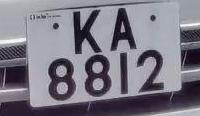1: (113, 47, 134, 100)
2: (133, 45, 168, 99)
8: (41, 52, 84, 107), (77, 51, 116, 99)
A: (107, 1, 142, 56)
K: (68, 3, 106, 59)
